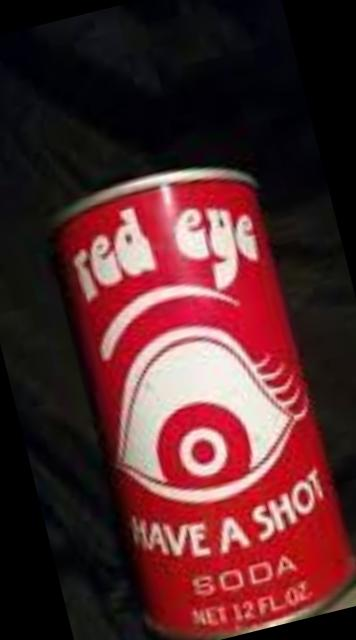metal: (52, 165, 348, 636)
